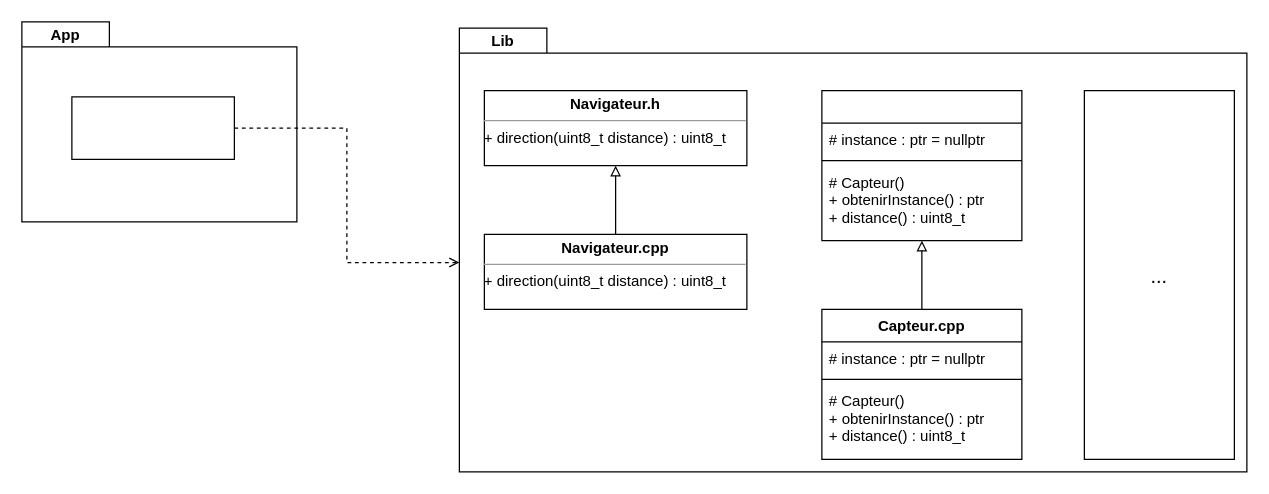
This 1269x494 diagram has some shape labels left out. The box of each missing label's shape, as (x1, y1, x2, y2) in pixels:
Capteur.h: (821, 89, 1022, 241)
main.cpp: (71, 96, 234, 159)
